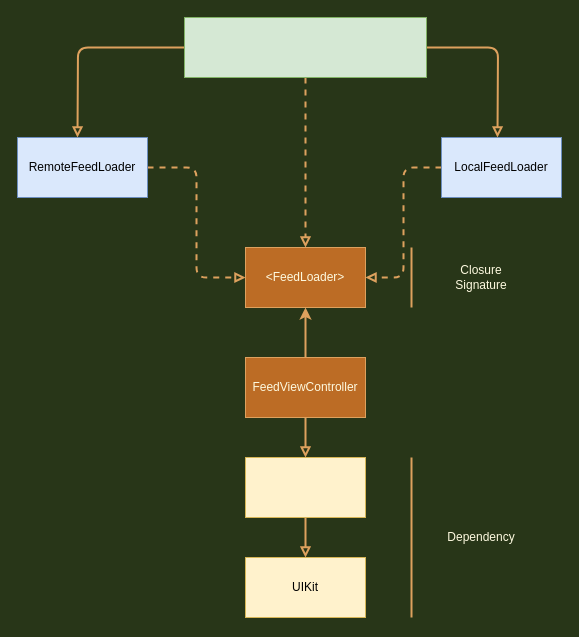
Some shapes in this 579 by 637 pixel diagram are drawn without their labels. The centre of each missing label's shape, as x and y in pixels:
RemoteWithLocalFallbackFeedLoader: (305,47)
UIViewController: (305,487)
